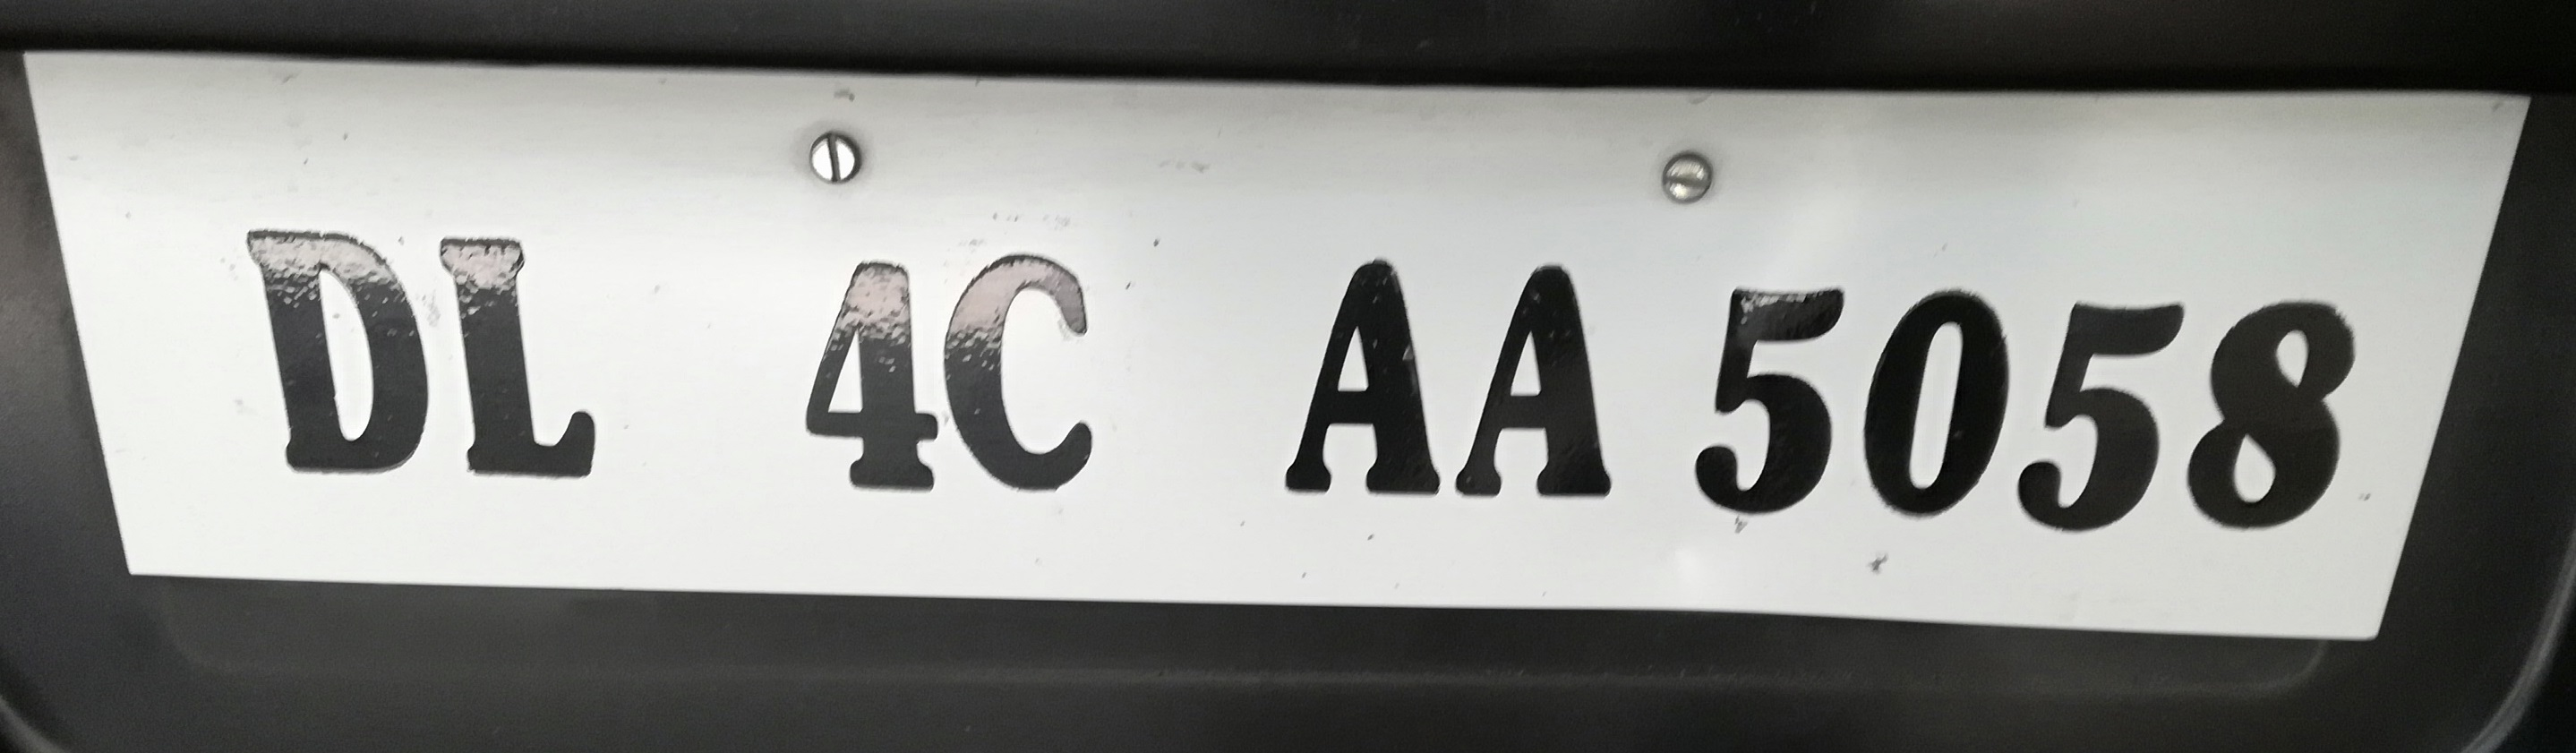numberplate: (4, 44, 2529, 653)
